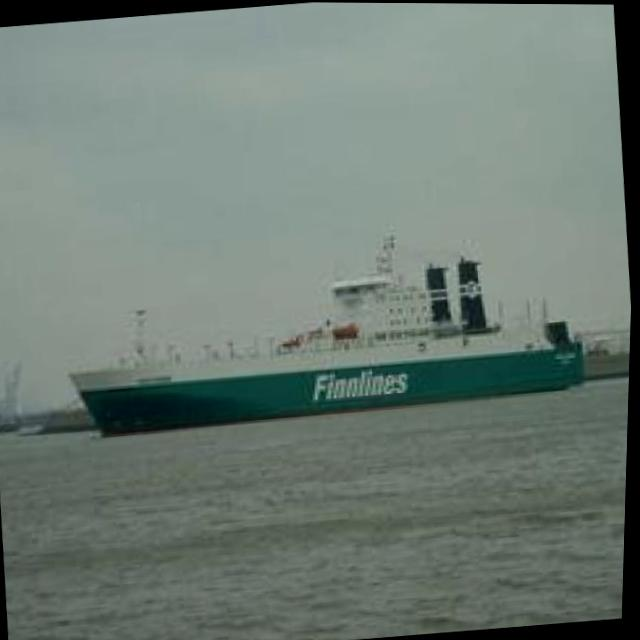ship2: (70, 227, 591, 439)
